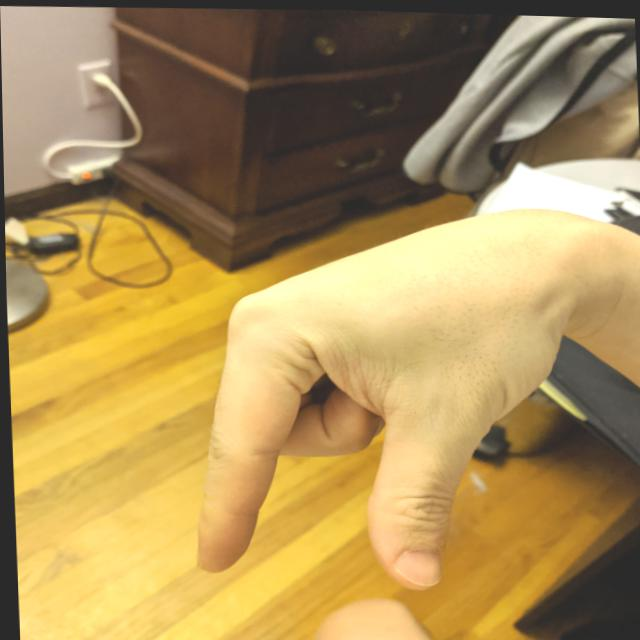Q: (169, 186, 577, 599)
